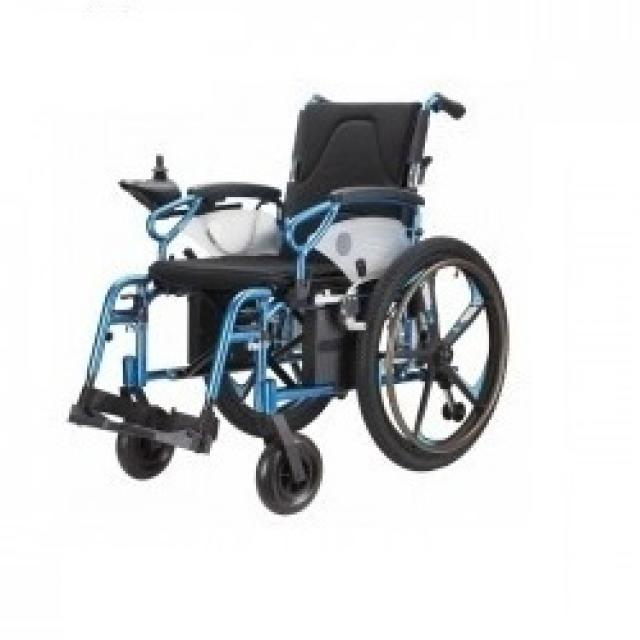wheelchair: (65, 71, 522, 521)
